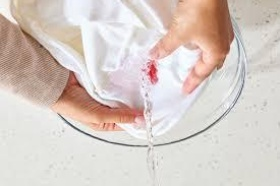blood: (142, 62, 159, 84)
